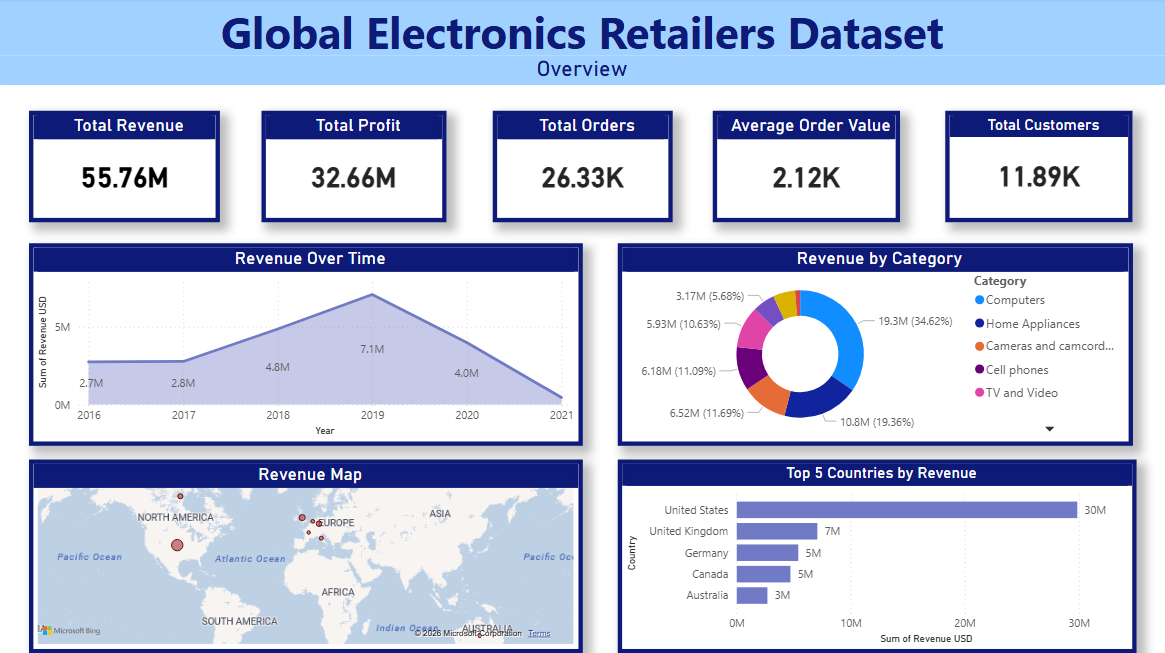

Layout of this report page (visuals, bound fields, positions):
{"tool":"powerbi","page":{"name":"Overview","canvas":[1280,720],"ordinal":1},"visuals":[{"type":"card","title":"Total Revenue","fields":{"Values":["Sum(Sales.Revenue USD)"]},"box":[32.9,124.9,209.9,122.1],"z":0},{"type":"card","title":"Total Profit","fields":{"Values":["Sum(Sales.Profit USD)"]},"box":[288.2,124.9,203.1,122.1],"z":1000},{"type":"card","title":"Total Orders","fields":{"Values":["Count(Sales.Order Number)"]},"box":[542,124.9,197.6,122.1],"z":2000},{"type":"map","title":"Revenue Map","fields":{"Category":["Customers.Country"],"Size":["Sum(Sales.Revenue USD)"]},"box":[32.9,507.7,607.9,212.7],"z":3000},{"type":"textbox","box":[0,0,1280.3,81],"z":4000},{"type":"stackedAreaChart","title":"Revenue Over Time","fields":{"Category":["Sales.Order Date.Variation.Date Hierarchy.Year"],"Y":["Sum(Sales.Revenue USD)"]},"box":[32.9,270.3,607.9,222.3],"z":5000},{"type":"barChart","title":"Top 5 Countries by Revenue","fields":{"Y":["Sum(Sales.Revenue USD)"],"Category":["Customers.Country"]},"box":[679.2,507.7,569.5,212.7],"z":6000},{"type":"card","title":"Average Order Value","fields":{"Values":["Sales.Average Order Value"]},"box":[783.5,124.9,205.8,122.1],"z":7000},{"type":"card","title":"Total Customers","fields":{"Values":["Count(Sales.CustomerKey)"]},"box":[1038.8,124.9,205.8,122.1],"z":8000},{"type":"donutChart","title":"Revenue by Category","fields":{"Y":["Sum(Sales.Revenue USD)"],"Category":["Products.Category"]},"box":[679.2,270.3,565.4,222.3],"z":9000},{"type":"card","title":"Overview","fields":{"Values":["Min(Products.Brand)"]},"box":[0,64.5,1280.3,32.9],"z":10000}]}

Visuals, with their boxes in screenshot pixels (x1, y1, x2, y2), scaled from the page's 1280x720 canvas onto the 1165x653 screenshot:
"Total Revenue" card: (x1=30, y1=113, x2=221, y2=224)
"Total Profit" card: (x1=262, y1=113, x2=447, y2=224)
"Total Orders" card: (x1=493, y1=113, x2=673, y2=224)
"Revenue Map" map: (x1=30, y1=460, x2=583, y2=652)
textbox: (x1=0, y1=0, x2=1164, y2=73)
"Revenue Over Time" stackedAreaChart: (x1=30, y1=245, x2=583, y2=447)
"Top 5 Countries by Revenue" barChart: (x1=618, y1=460, x2=1137, y2=652)
"Average Order Value" card: (x1=713, y1=113, x2=900, y2=224)
"Total Customers" card: (x1=945, y1=113, x2=1133, y2=224)
"Revenue by Category" donutChart: (x1=618, y1=245, x2=1133, y2=447)
"Overview" card: (x1=0, y1=58, x2=1164, y2=88)
